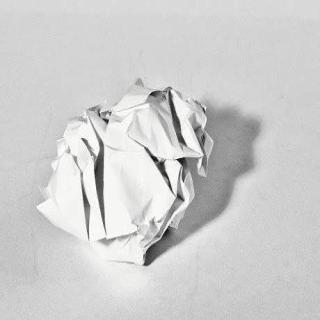Anorganik: (35, 77, 214, 268)
